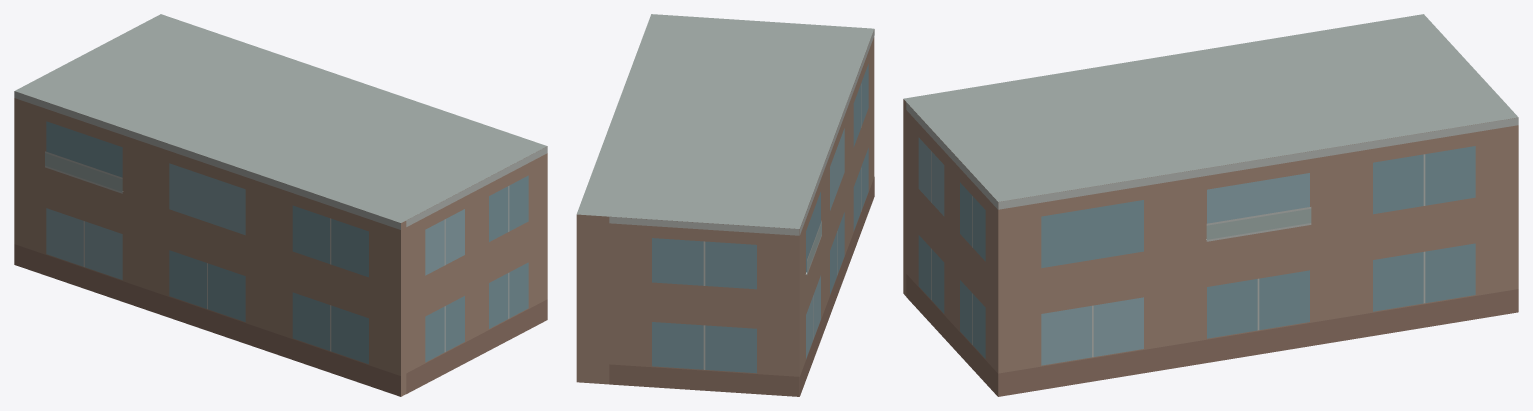
File: survey-upis-32698447.glb
The picture shows the model from 3 angles, left to right: view 1: azimuth 30°, elevation 25°; view 2: azimuth 150°, elevation 25°; view 3: azimuth 270°, elevation 25°; orthographic projection. The views are drawn at different scales.
Parts seen in each view (by area): view 1: survey-upis-32698447.tmp; view 2: survey-upis-32698447.tmp; view 3: survey-upis-32698447.tmp.
Boxes of the visible parts, x1=… form: survey-upis-32698447.tmp: x1=14, y1=14, x2=547, y2=396; survey-upis-32698447.tmp: x1=576, y1=14, x2=874, y2=396; survey-upis-32698447.tmp: x1=903, y1=14, x2=1518, y2=396.
Size of the model in its own units: 12.63 by 6.1 by 17.46.
